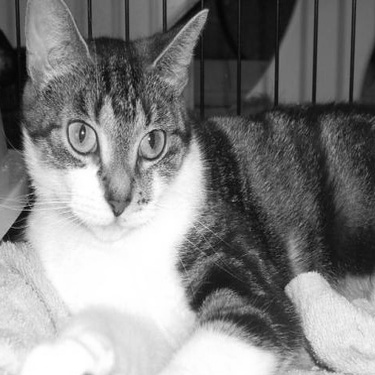cat: (9, 38, 362, 368)
